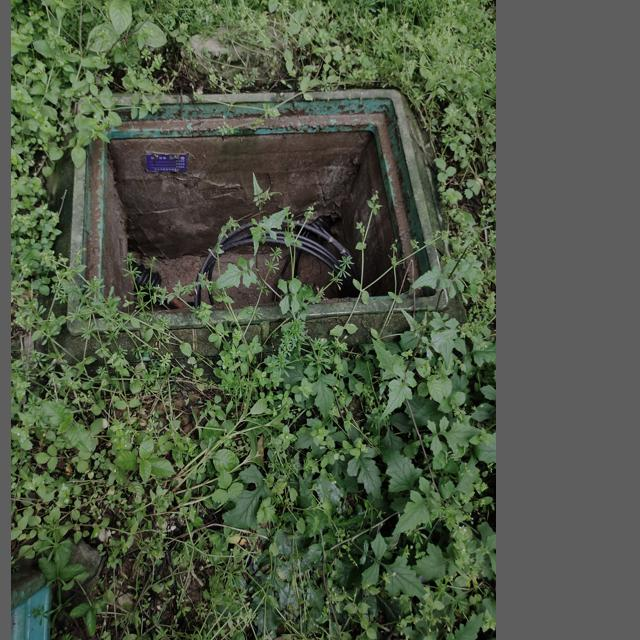lose: (71, 70, 452, 328)
